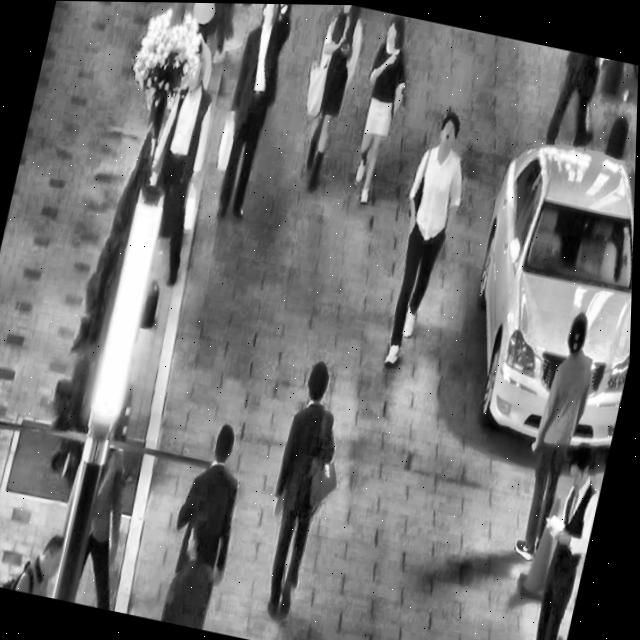light_vehicle: (439, 111, 638, 463)
